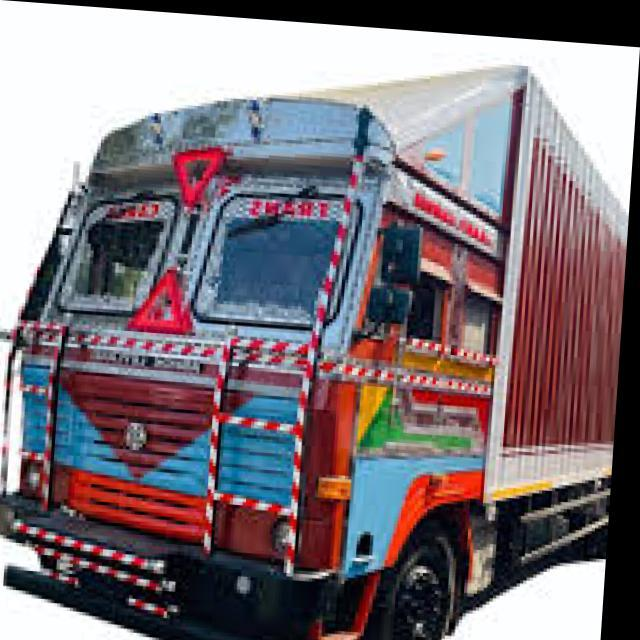covered: (0, 21, 639, 640)
